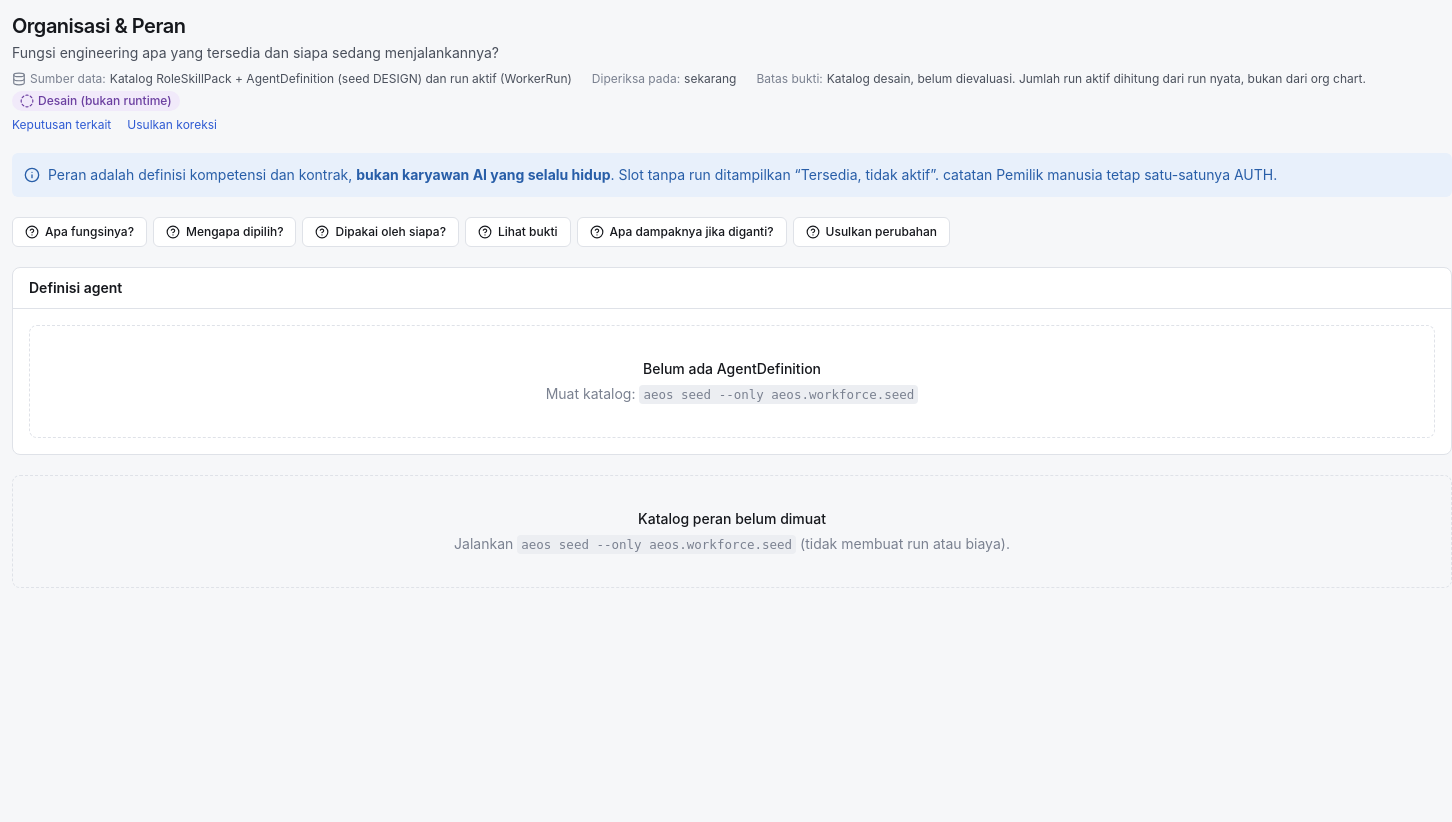
Scenario: Organization page explain buttons (§35 'buka record sumber yang sama') › states that nothing is claimed when no role record exists
Click the button "Apa fungsinya?" at (80, 232), box [12,217,147,247]
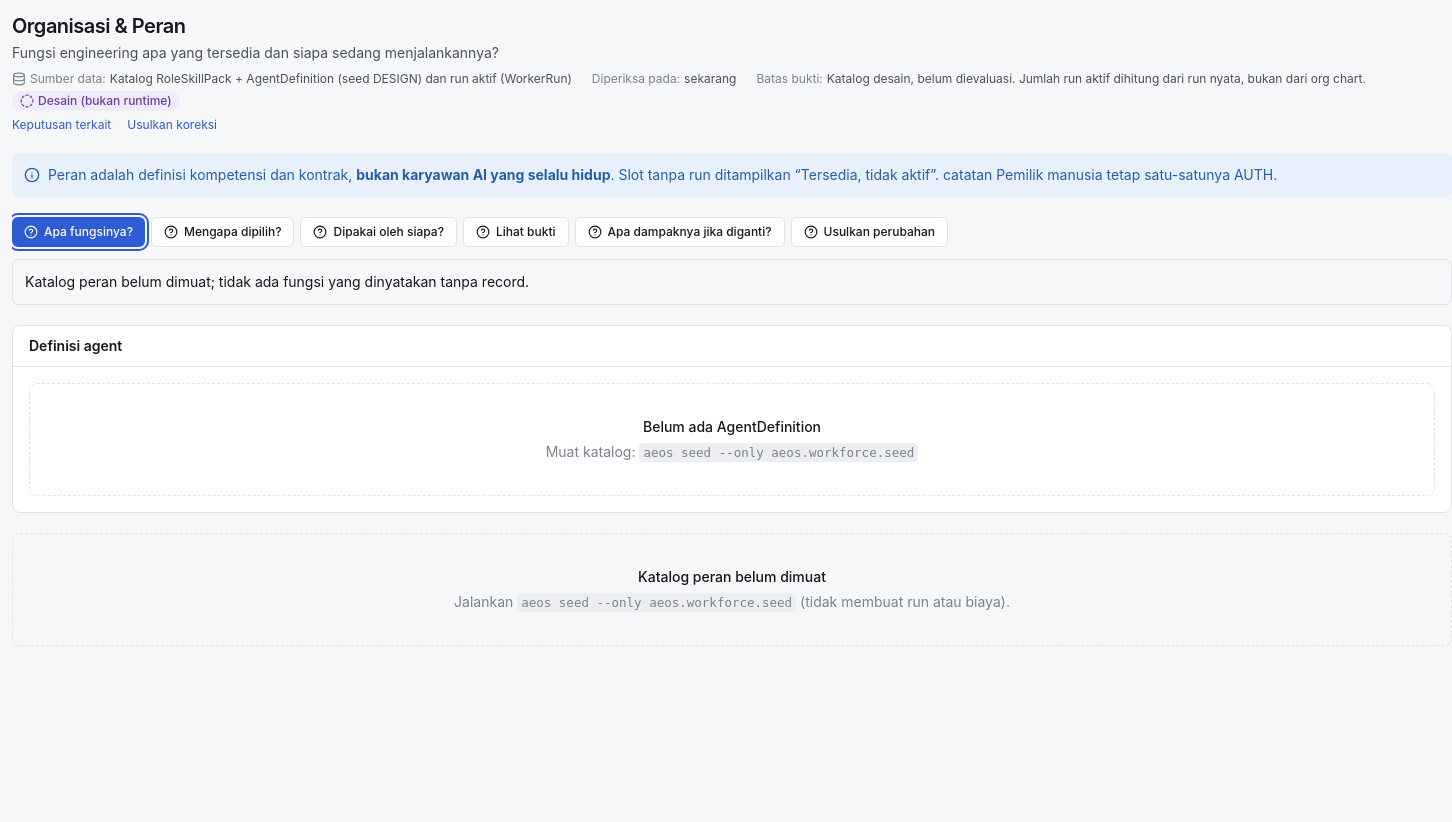
Now the text "tidak ada fungsi yang dinyatakan tanpa record" is shown, box [25,273,529,290]
